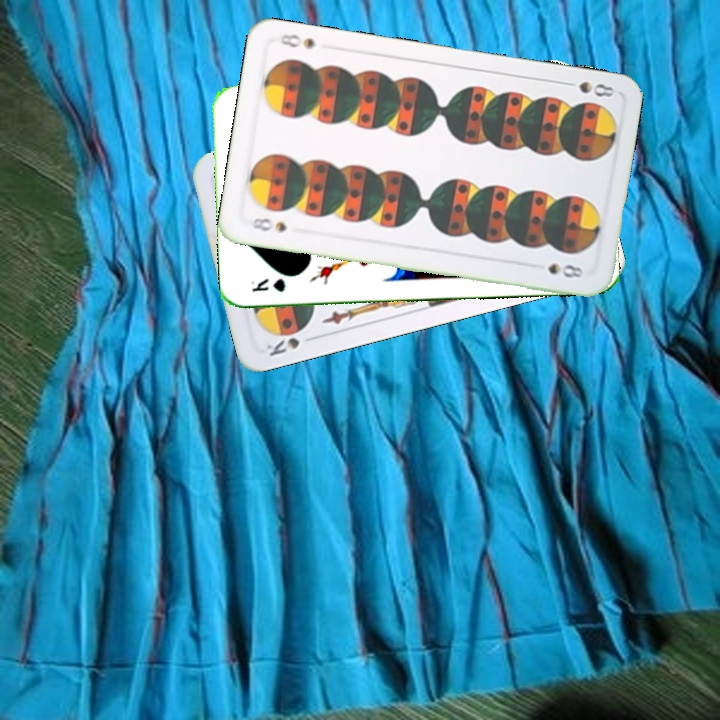GK: (247, 274, 288, 295)
S8: (558, 77, 617, 100), (246, 213, 290, 235)
SK: (262, 333, 303, 359)
